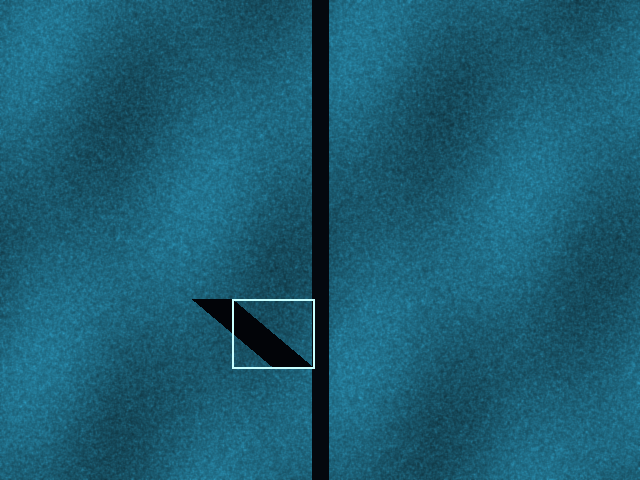Plastic Debris: (232, 299, 314, 368)
